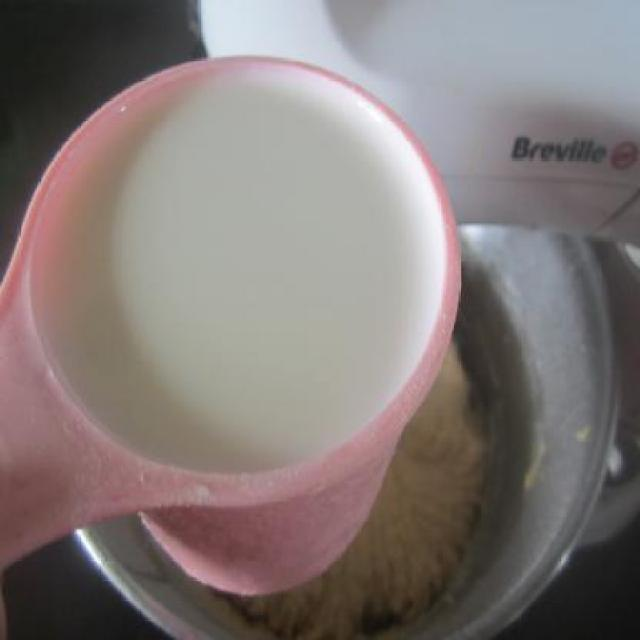Milk: (57, 44, 446, 500)
